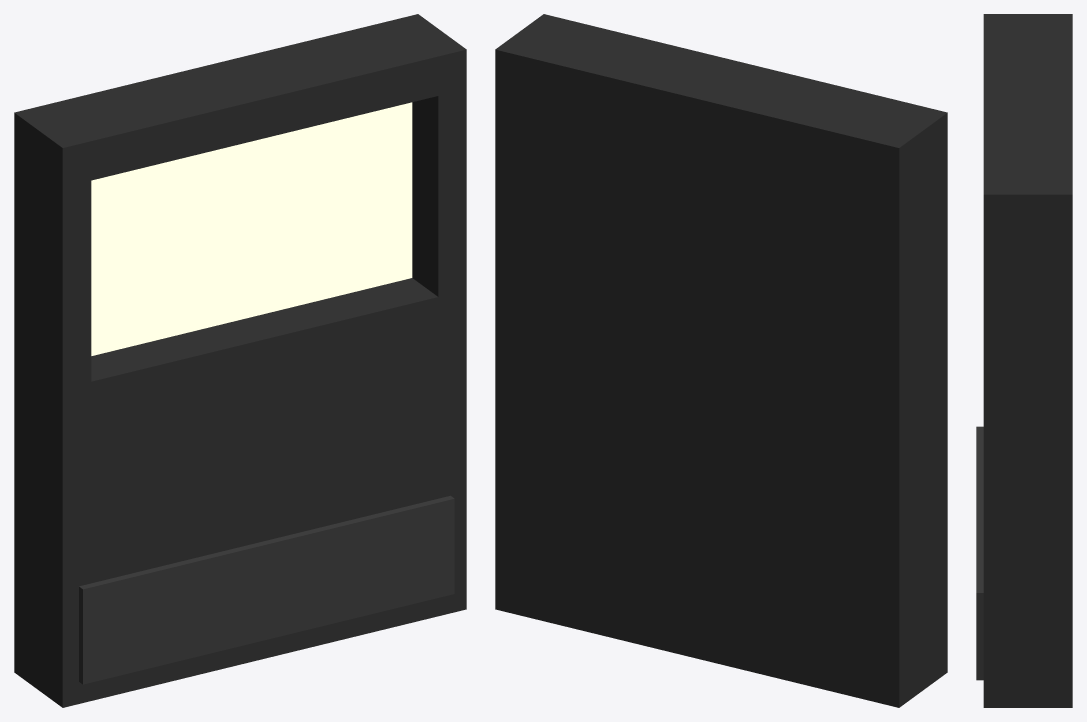
Rendered from panessl.fbx.
The picture shows the model from 3 angles, left to right: view 1: azimuth 30°, elevation 25°; view 2: azimuth 150°, elevation 25°; view 3: azimuth 270°, elevation 25°; orthographic projection. The views are drawn at different scales.
Visible parts, largest first — view 1: Cube.004; view 2: Cube.004; view 3: Cube.004.
Part boxes in pixels (x1,y1,x2,y2): Cube.004: (14, 14, 466, 707); Cube.004: (495, 14, 947, 707); Cube.004: (976, 14, 1072, 707).
Size of the model in its own units: 106 by 140 by 23.92.
